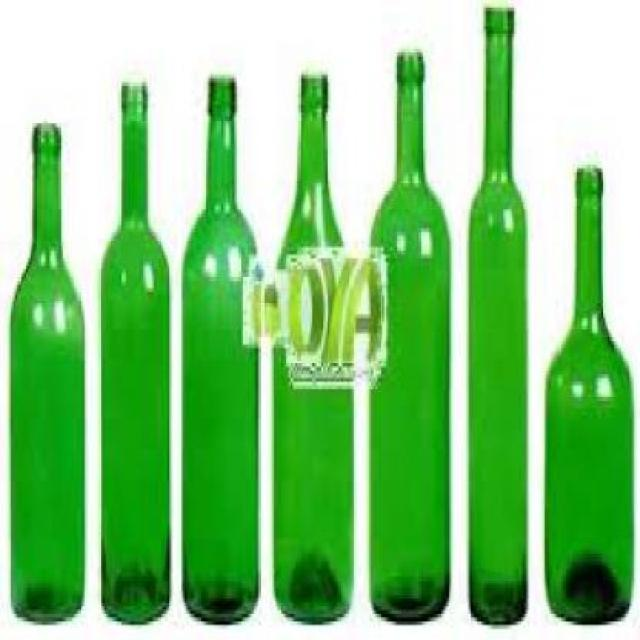kaca: (366, 49, 449, 622), (178, 76, 257, 622), (271, 72, 349, 618), (544, 164, 630, 622), (466, 0, 528, 622), (100, 78, 171, 617), (11, 120, 83, 617)
